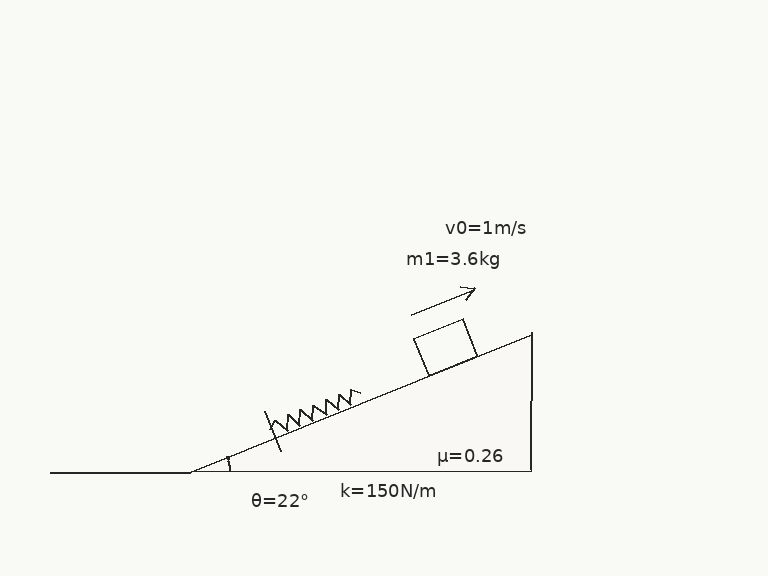block: (411, 317, 479, 377)
ramp: (188, 332, 532, 473)
spring: (270, 387, 362, 432)
